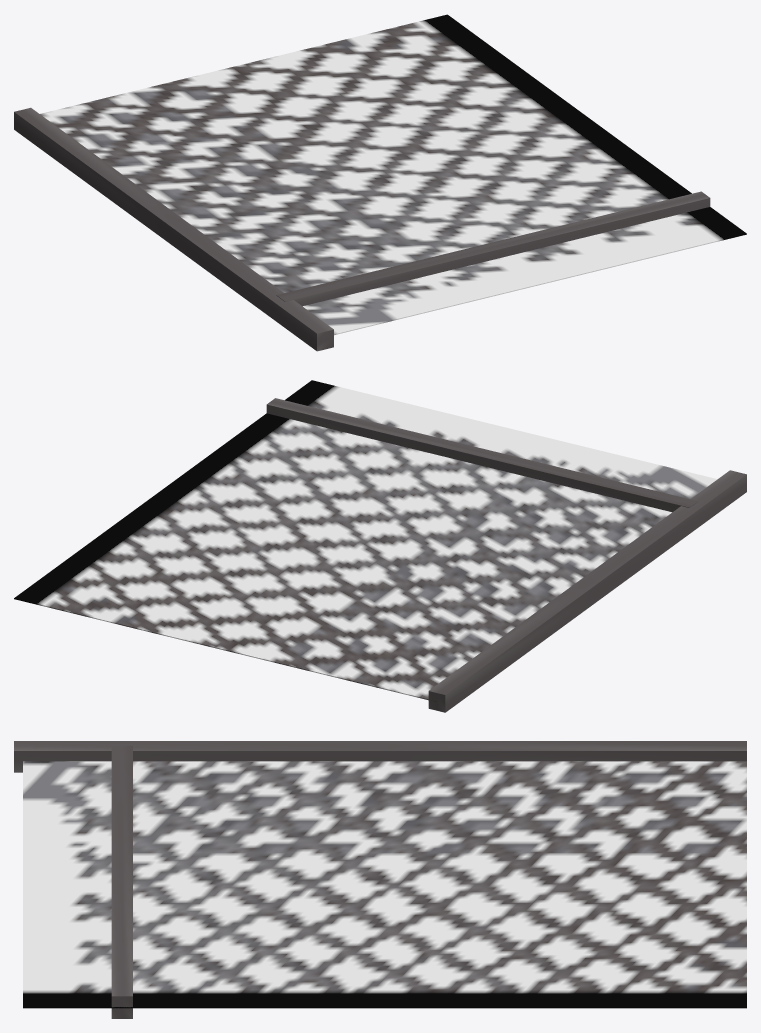
Rendered from pz_fence_png_fencing_01_24.obj.
3 renders of one model, top to bottom at view 1: azimuth 30°, elevation 25°; view 2: azimuth 150°, elevation 25°; view 3: azimuth 270°, elevation 25°, orthographic. The views are drawn at different scales.
Size of the model in its own units: 1.02 by 0.042 by 1.24.
Materials: 1 (1 with a texture image).
